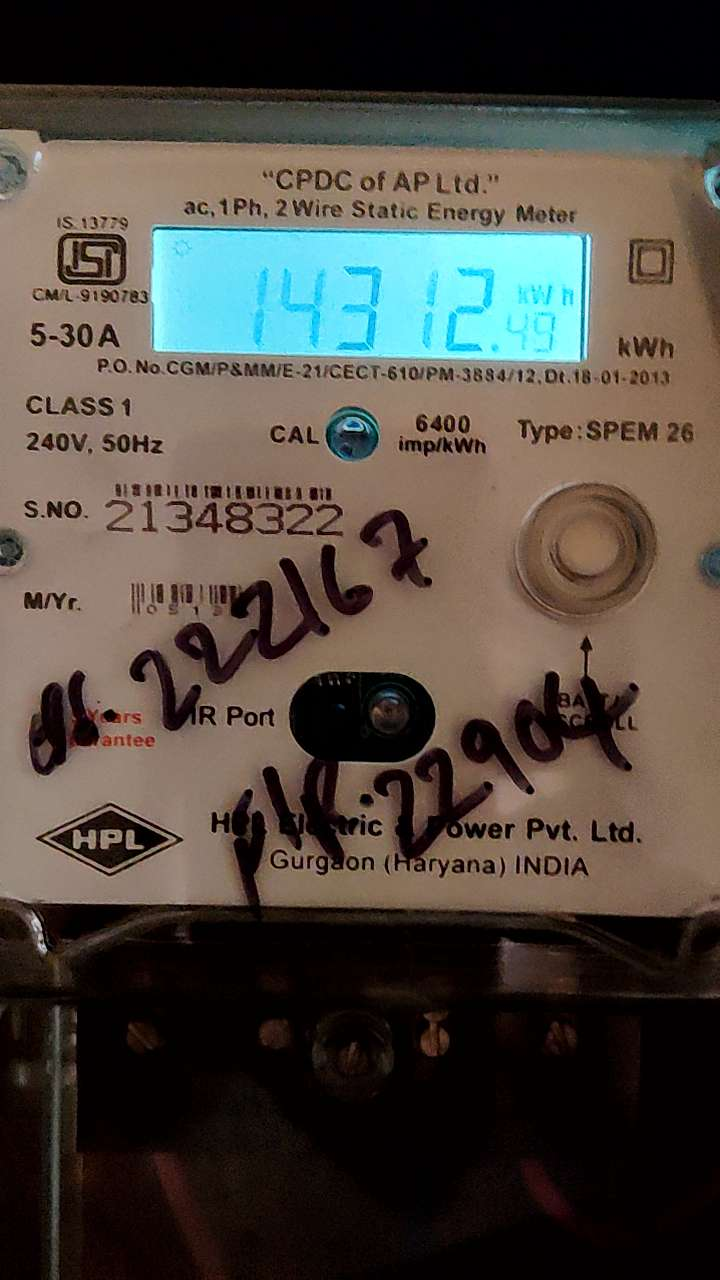meter_serial_number: (102, 498, 348, 544)
